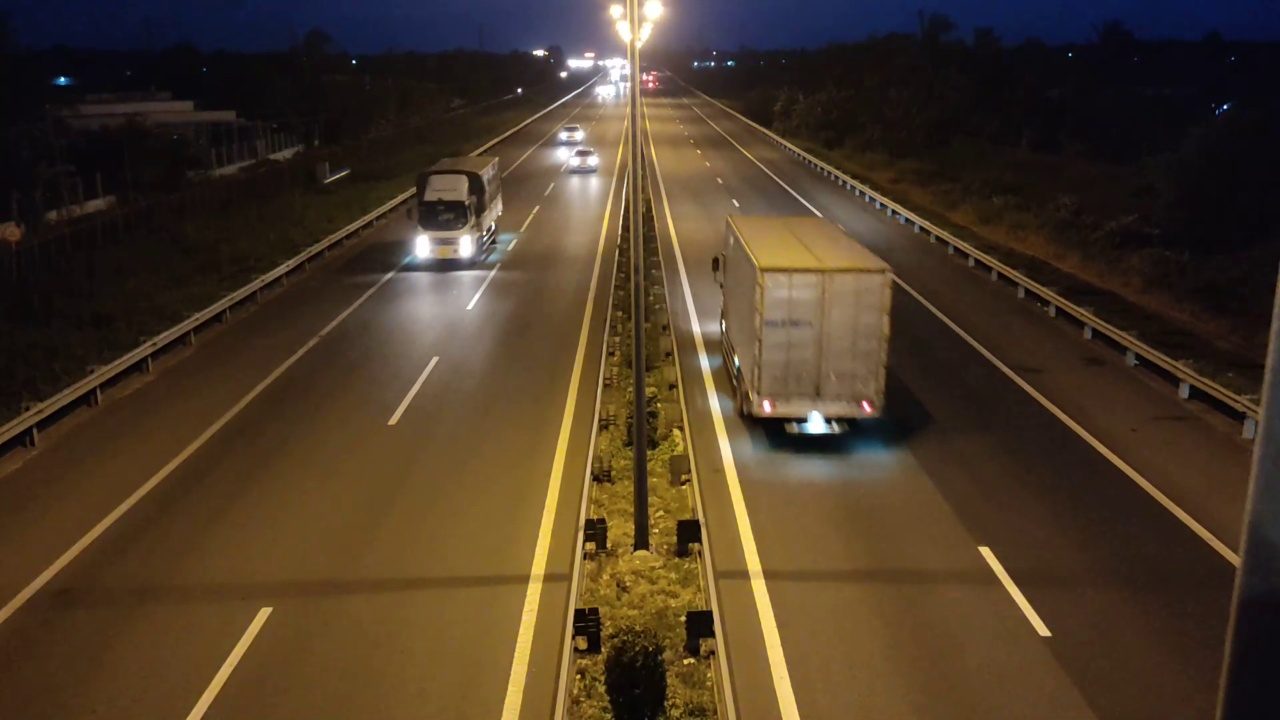car: (562, 146, 599, 175), (555, 123, 587, 145)
truck: (711, 211, 895, 451), (409, 153, 503, 268)
